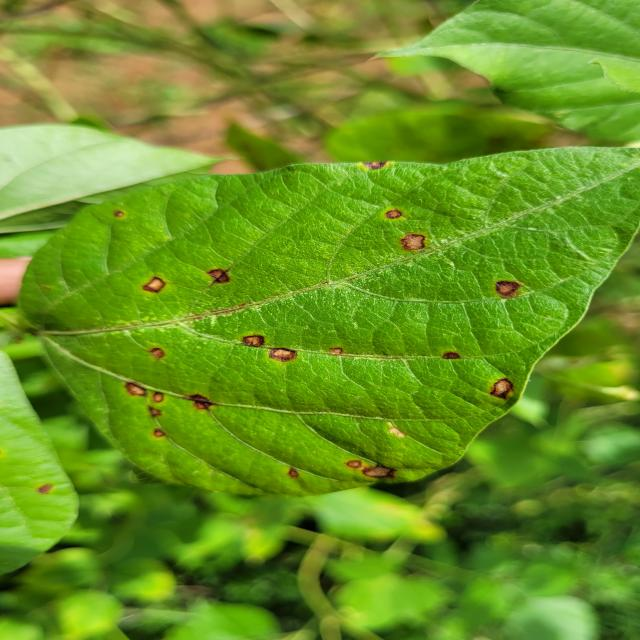Dolicos bean_cercospora leaf spot: (13, 140, 640, 501)
